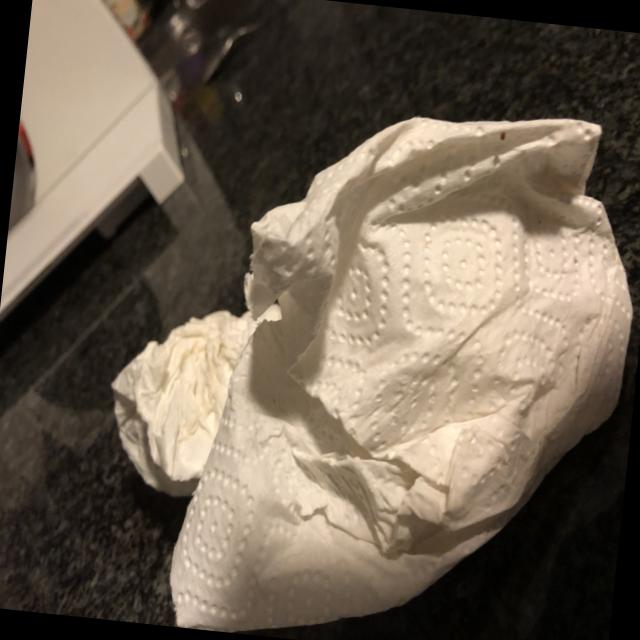organic waste: (162, 70, 640, 640), (106, 278, 276, 498)
